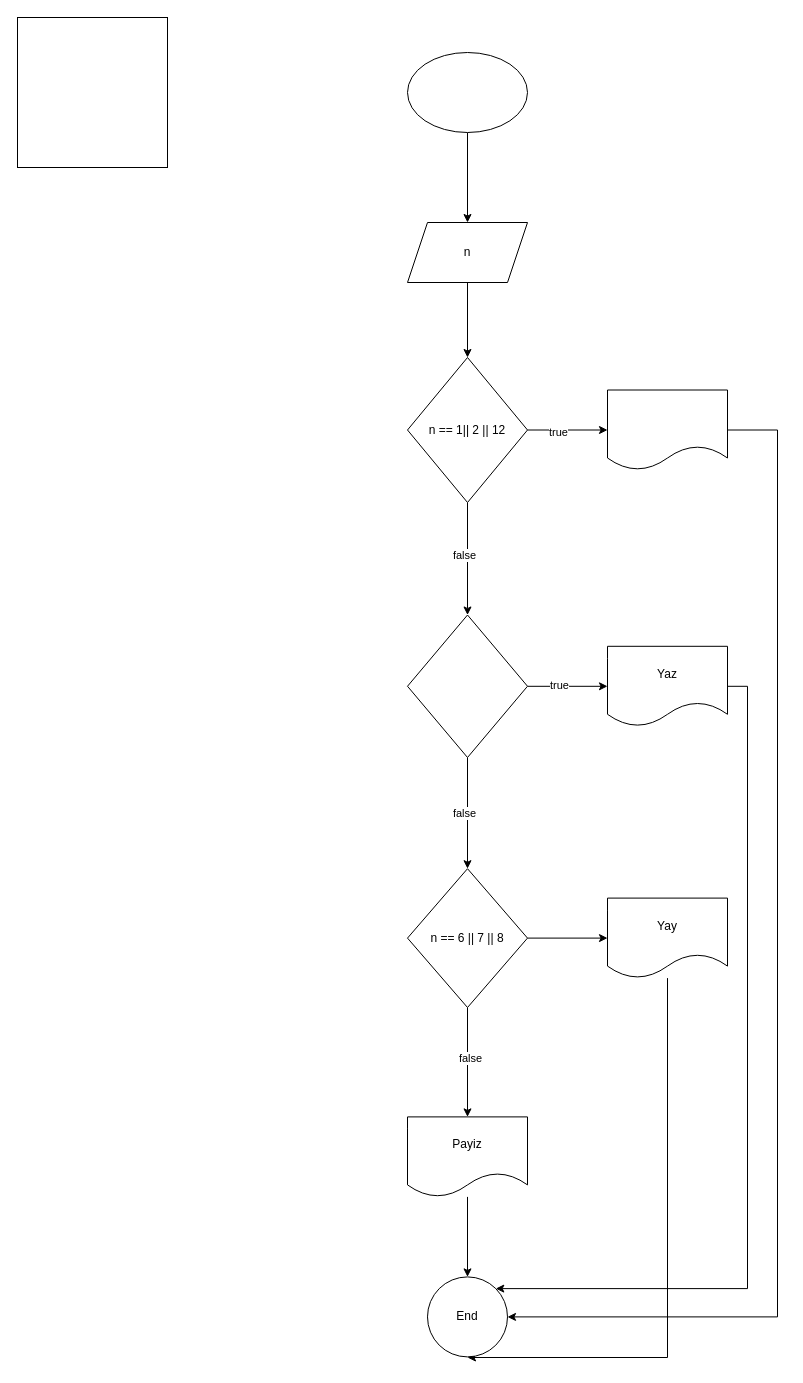
The diagram is 803 pixels wide and 1383 high, and some of its shapes have lost their labels. The shapes that lost their labels are listed below. From the top down, each one's box as (x1, y1, x2, y2) in pixels, then its label:
(16, 16, 168, 168): Verilmis ayin ededine gore hansi fesil oldugunu tapan alqoritm
(406, 52, 528, 132): Start
(606, 389, 728, 470): Qis
(406, 614, 528, 758): n == 3 || 4 || 5
